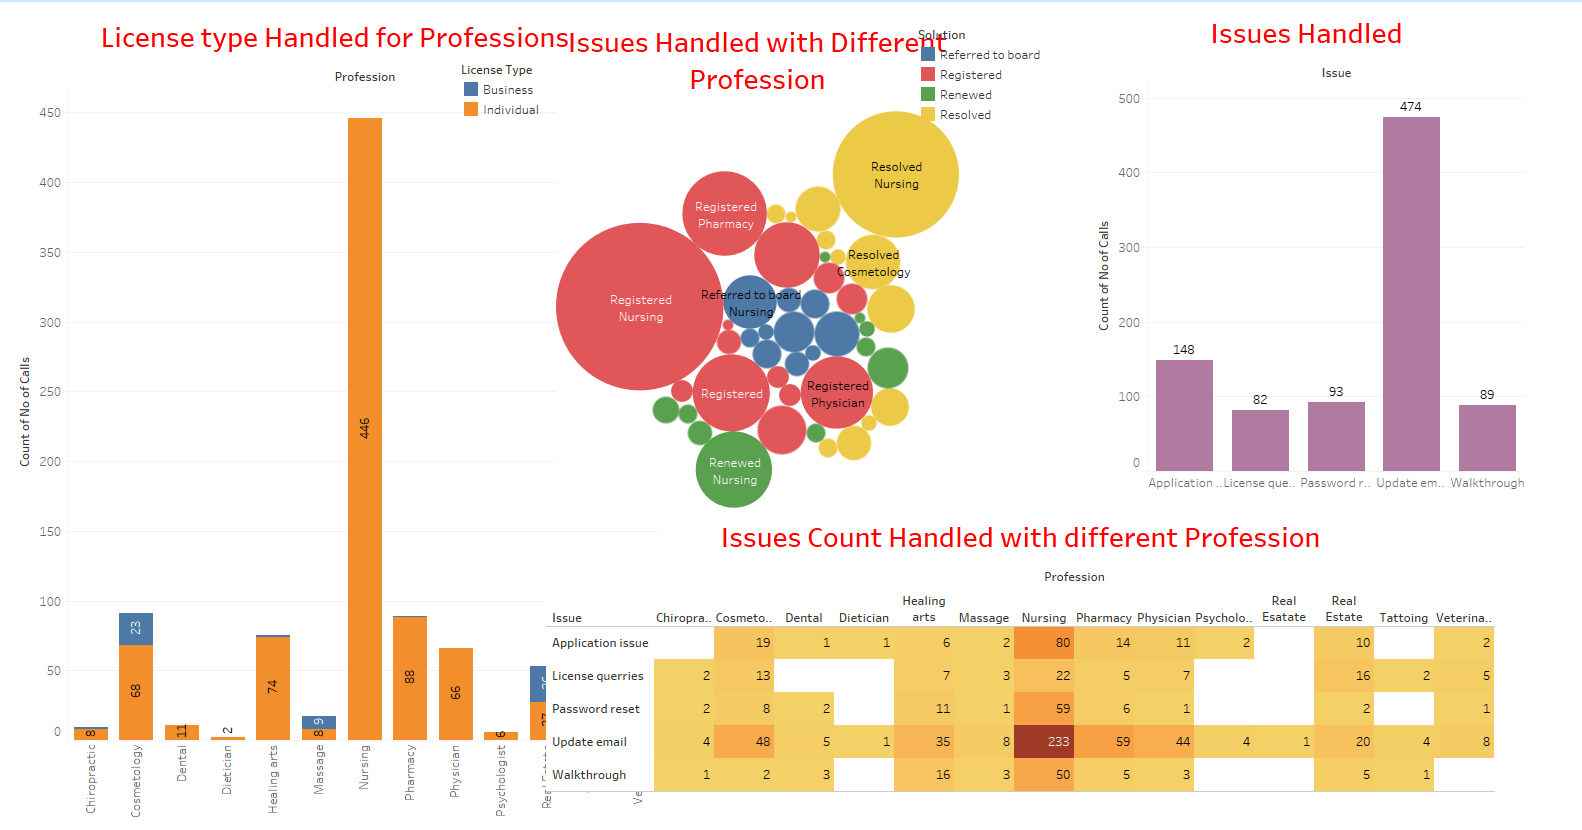

Layout of this report page (visuals, bound fields, positions):
{"tool":"tableau","page":{"name":"Dashboard 1","canvas":[1000,1000],"units":"permille","ordinal":0},"visuals":[{"type":"worksheet","title":"Issues Handled","mark":"Automatic","rows":["No of Calls"],"cols":["ISSUE"],"box":[681.8,10.2,272.9,580.4]},{"type":"worksheet","title":"Profession(type)","mark":"Automatic","rows":["No of Calls"],"cols":["PROFESSION"],"box":[5.6,11.7,337.1,976.6]},{"type":"worksheet","title":"Issues with profession","mark":"Circle","box":[349.2,20.5,582.9,608.2]},{"type":"legend","title":"Issues with profession","param":"[federated.1on1oc20ngby9f1cefex11ilzo7d].[none:SOLUTION:nk]","box":[575.9,29.2,98,143.3]},{"type":"legend","title":"Profession(type)","param":"[federated.1on1oc20ngby9f1cefex11ilzo7d].[none:License Type:nk]","box":[290,71.6,79.7,84.8]}]}

Visuals, with their boxes on the dashboard's canvas, which has no fixed pixel size, in thousandths of its width and height (x1, y1, x2, y2). These are canvas units, not pixel positions in the 1582x830 screenshot, which may show the page scaled, cropped or inside an application window:
"Issues Handled" worksheet: x1=682 y1=10 x2=955 y2=591
"Profession(type)" worksheet: x1=6 y1=12 x2=343 y2=988
"Issues with profession" worksheet (Circle marks): x1=349 y1=20 x2=932 y2=629
"Issues with profession" legend: x1=576 y1=29 x2=674 y2=172
"Profession(type)" legend: x1=290 y1=72 x2=370 y2=156
